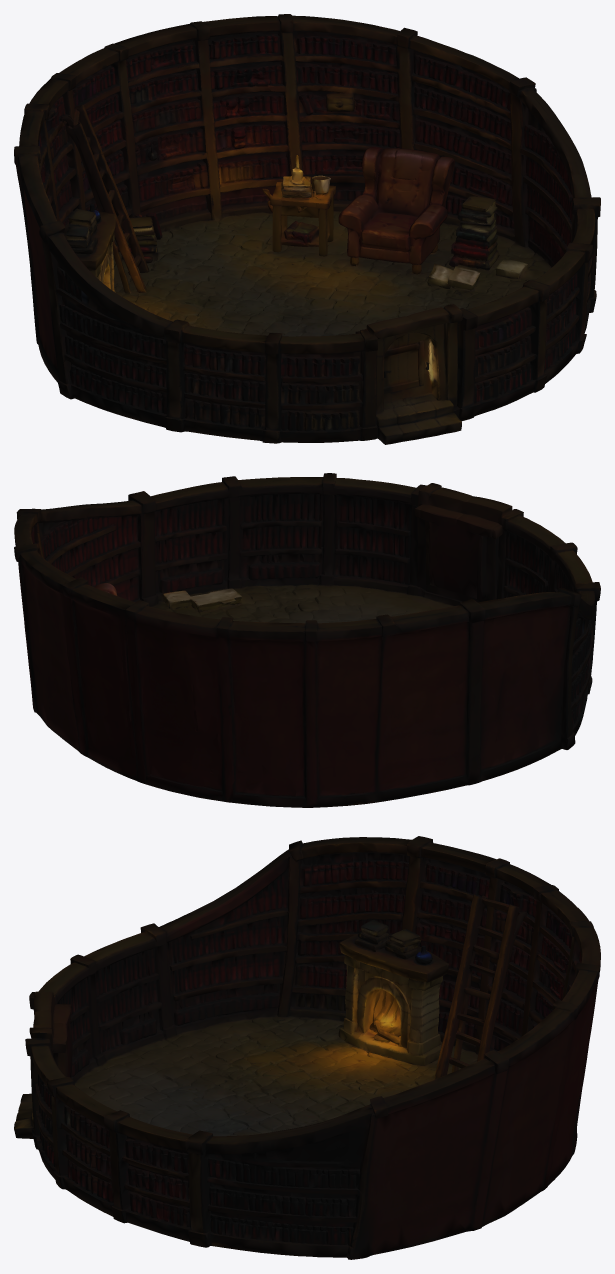
3 renders of one model, top to bottom at view 1: azimuth 30°, elevation 25°; view 2: azimuth 150°, elevation 25°; view 3: azimuth 270°, elevation 25°, orthographic. The views are drawn at different scales.
Parts seen in each view (by area): view 1: model; view 2: model; view 3: model.
Boxes of the visible parts, left/top/right/bottom form: model: left=14, top=14, right=600, bottom=444; model: left=14, top=473, right=600, bottom=807; model: left=14, top=836, right=600, bottom=1259.
Bounding box in the file's own units: 60.95 × 20.85 × 58.9.
1 material, 1 textured.
